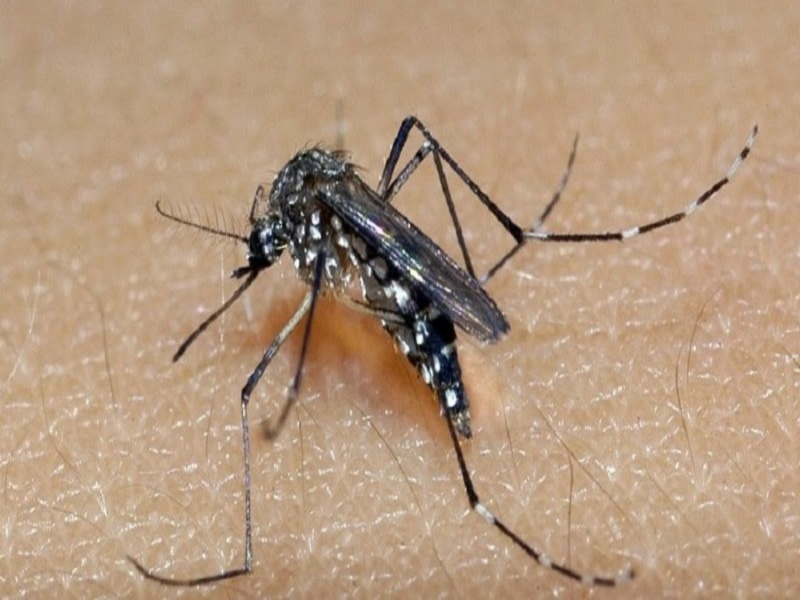dengue_mosquito: (157, 121, 507, 524)
